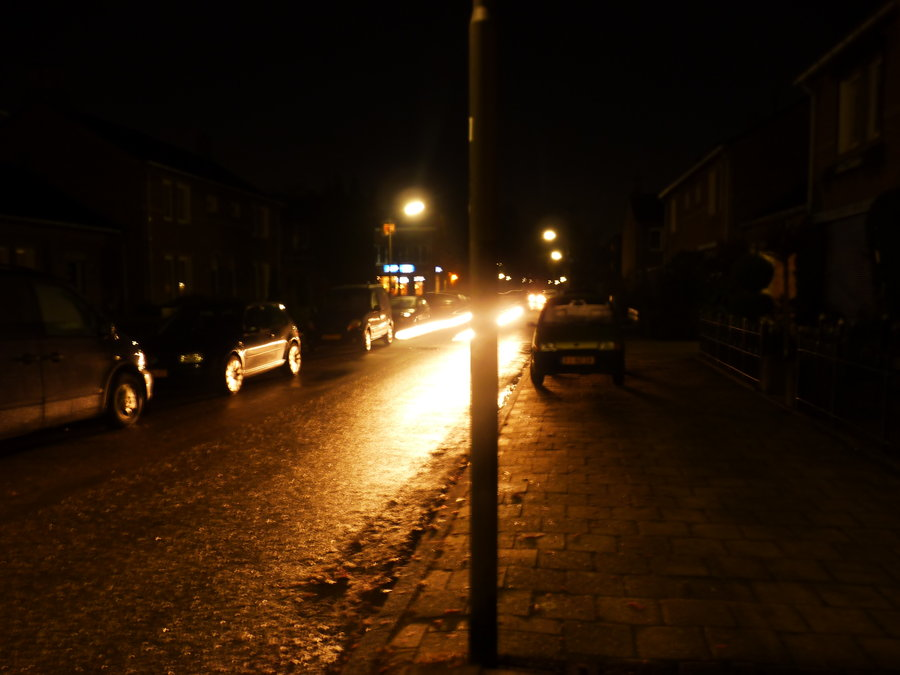car: (301, 275, 398, 353)
